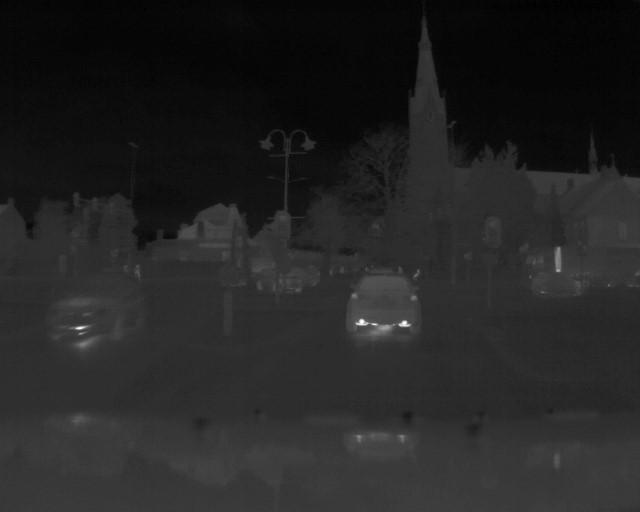car: (41, 271, 153, 347), (343, 272, 427, 340), (257, 270, 307, 292)
